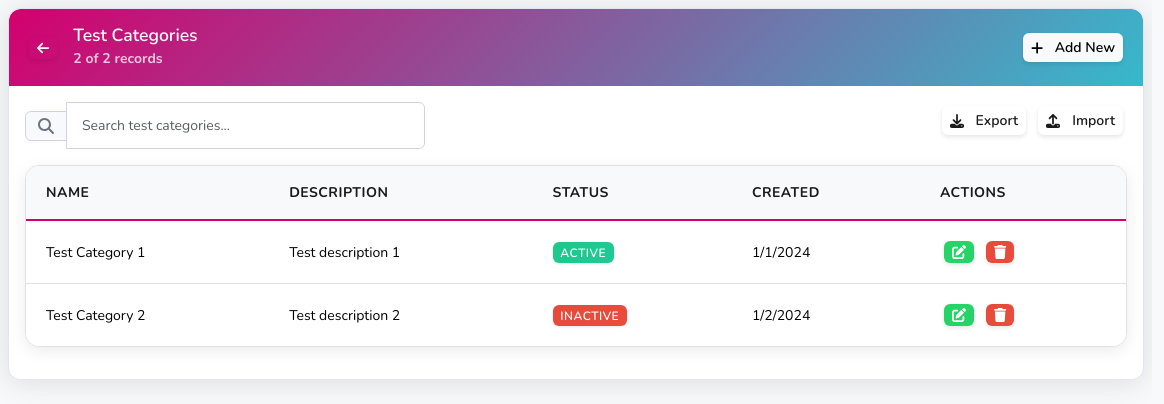
Test: MasterDataDetailView › handles search functionality
Type "Category 1" into the field with placeholder "Search test categories..." at (246,126), box [66,102,425,149]
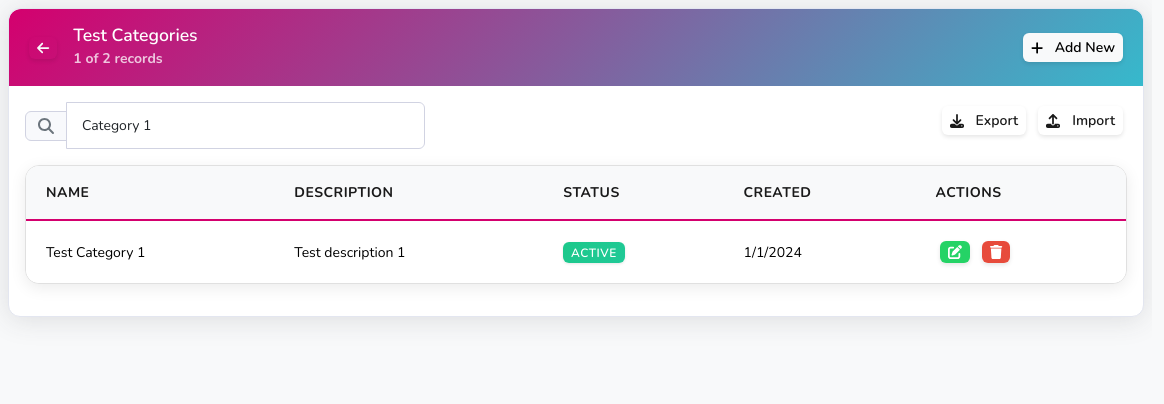
Check: the text "Test Category 1" is shown, box [26,220,274,283]
Check: the text "Test Category 2" is gone
